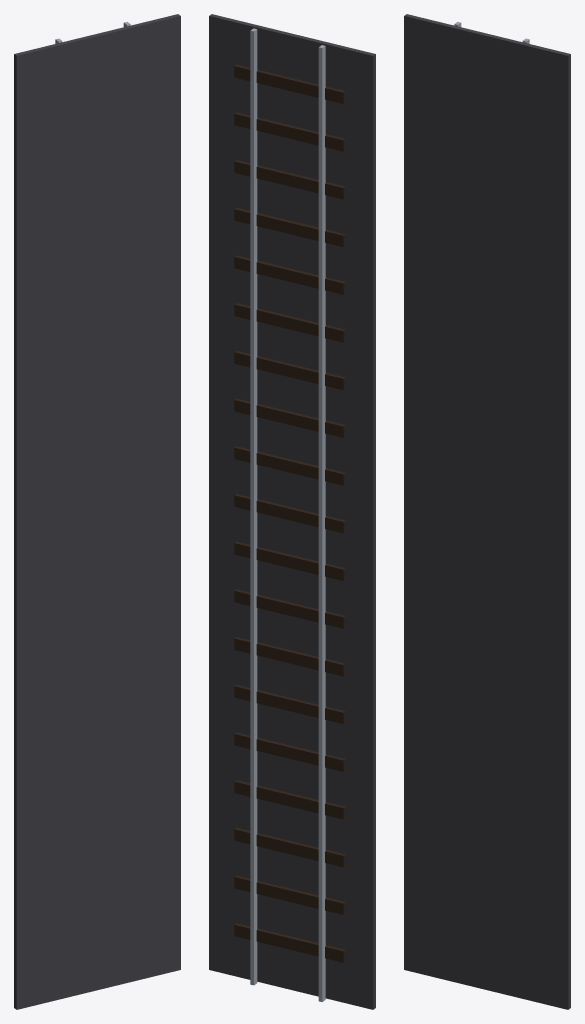
Rendered from train_tracks.obj.
3 views of the same model, side by side, from view 1: azimuth 30°, elevation 25°; view 2: azimuth 150°, elevation 25°; view 3: azimuth 330°, elevation 25° (orthographic).
Parts seen in each view (by area): view 1: Train_Tracks; view 2: Train_Tracks; view 3: Train_Tracks.
Boxes of the visible parts, bbox=[...] form: Train_Tracks: bbox=[14, 14, 180, 1009]; Train_Tracks: bbox=[209, 14, 375, 1009]; Train_Tracks: bbox=[404, 14, 570, 1009].
Size of the model in its own units: 3.6 by 20 by 0.28.
